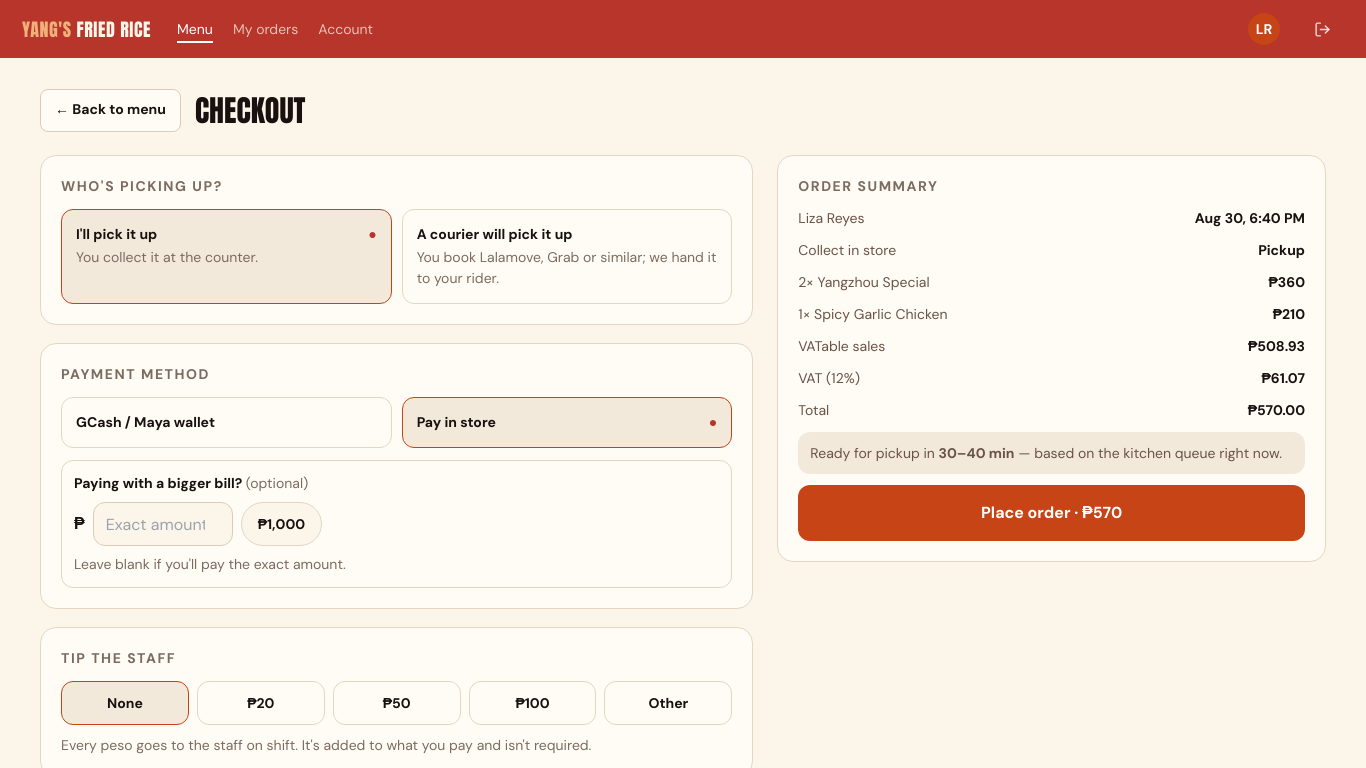
Test: Checkout cart re-check › highlights a sold-out dish and removes it on request (9.1)
Click the button "Place order · ₱570" at (1052, 513), box [798, 485, 1305, 541]
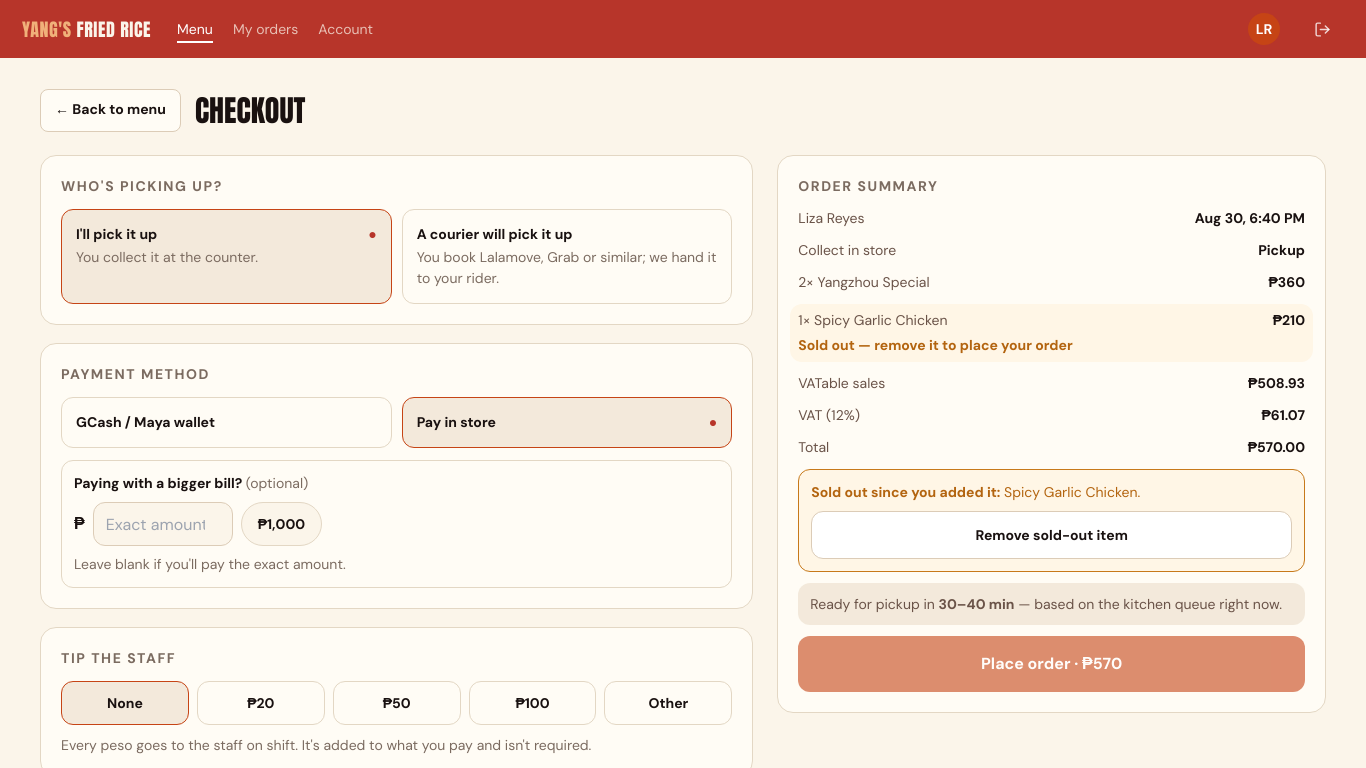
Expected: the message shows "Sold out since you added it: Spicy Garlic Chicken", [798, 469, 1305, 572]
Expected: the text "Sold out — remove it to place your order" is shown, [798, 336, 1073, 354]
Expected: the button "Place order · ₱570" is disabled, [798, 636, 1305, 692]
Click the button "Remove sold-out item" at (1052, 535), box [811, 511, 1292, 559]
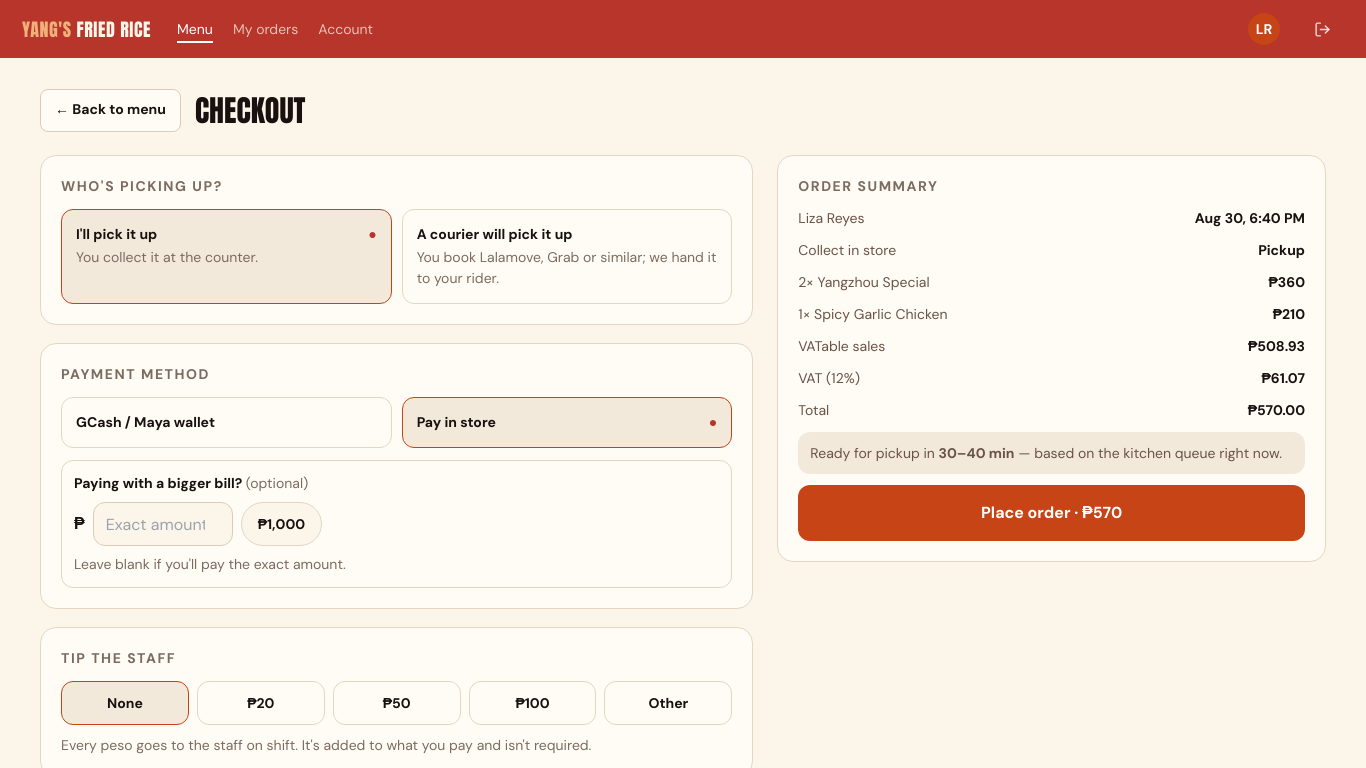
Expected: the message "Sold out since you added it: Spicy Garlic Chicken. Remove sold-out item" is gone
